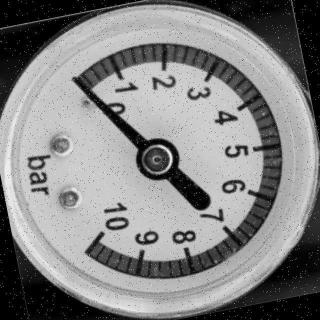gauge: (0, 0, 320, 320), (132, 134, 184, 185), (59, 72, 97, 100), (87, 221, 113, 251), (66, 71, 84, 90)
